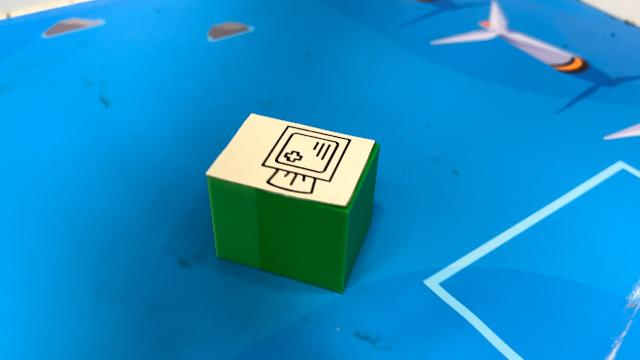napkin: (204, 110, 382, 294)
